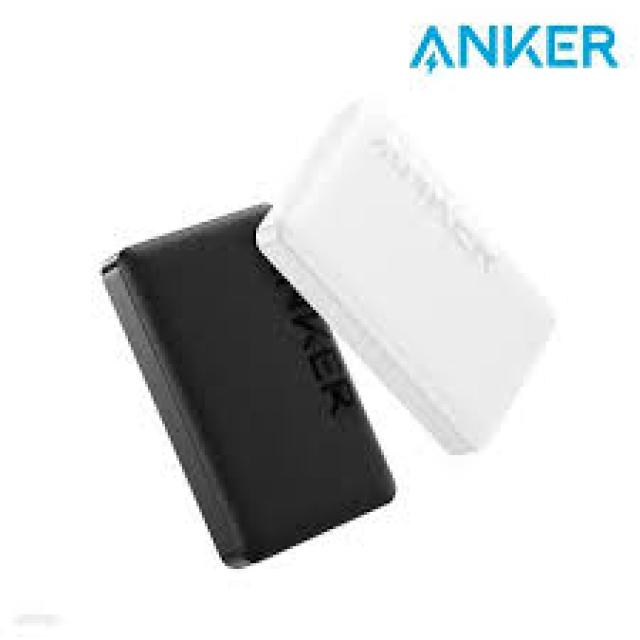portable-charger: (102, 202, 404, 572), (259, 100, 558, 457)
